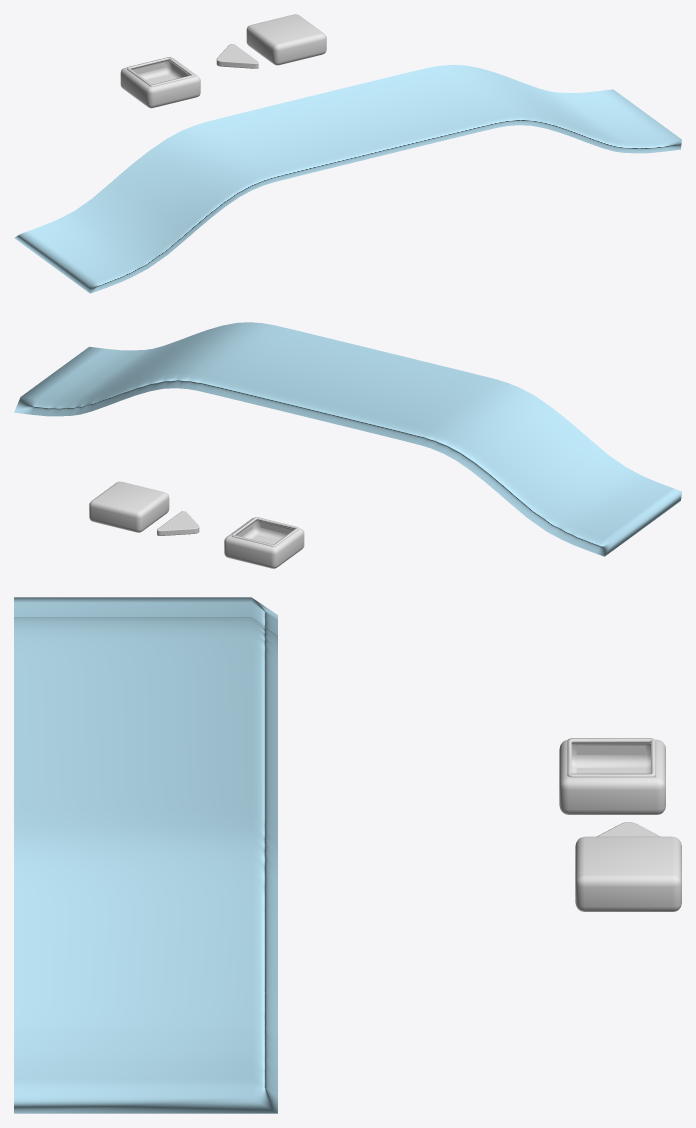
File: BOX_WORD_gAME.fbx
3 views of the same model, one above another, from view 1: azimuth 30°, elevation 25°; view 2: azimuth 150°, elevation 25°; view 3: azimuth 270°, elevation 25° (orthographic). The views are drawn at different scales.
Parts seen in each view (by area): view 1: Plane.025, Cube.085, Cube.070, Cube.071; view 2: Plane.025, Cube.085, Cube.070, Cube.071; view 3: Plane.025, Cube.085, Cube.070.
Boxes of the visible parts, left/top/right/bottom form: Plane.025: left=14, top=64, right=681, bottom=293; Cube.085: left=120, top=57, right=200, bottom=108; Cube.070: left=246, top=14, right=326, bottom=65; Cube.071: left=216, top=44, right=258, bottom=68; Plane.025: left=14, top=322, right=681, bottom=556; Cube.085: left=224, top=517, right=304, bottom=568; Cube.070: left=89, top=481, right=169, bottom=532; Cube.071: left=157, top=511, right=199, bottom=535; Plane.025: left=14, top=597, right=277, bottom=1113; Cube.085: left=559, top=738, right=665, bottom=814; Cube.070: left=575, top=836, right=681, bottom=911.
Bounding box in the file's own units: 3331 × 412 × 1880.
